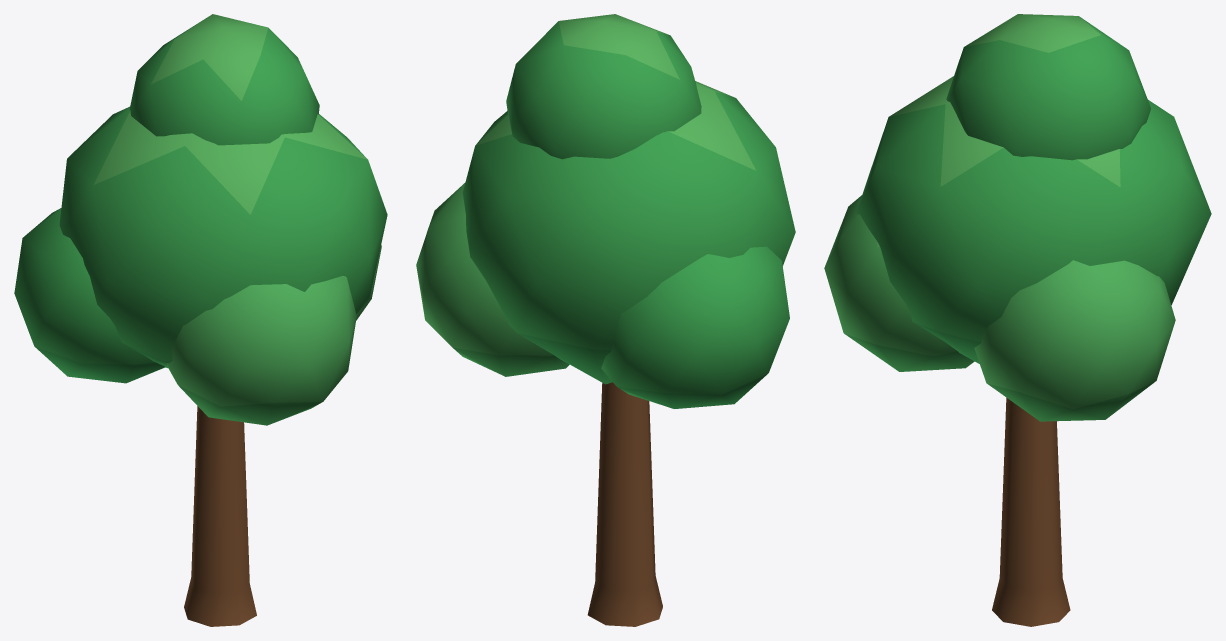
File: mint-deco1.glb
3 renders of one model, left to right at view 1: azimuth 30°, elevation 25°; view 2: azimuth 150°, elevation 25°; view 3: azimuth 270°, elevation 25°, orthographic. The views are drawn at different scales.
Parts seen in each view (by area): view 1: mint-deco1; view 2: mint-deco1; view 3: mint-deco1.
Boxes of the visible parts, x1,y1,x2,y2 form: mint-deco1: (14,14,387,626); mint-deco1: (416,14,795,626); mint-deco1: (824,14,1211,626).
Size of the model in its own units: 2.29 by 3.77 by 2.21.
